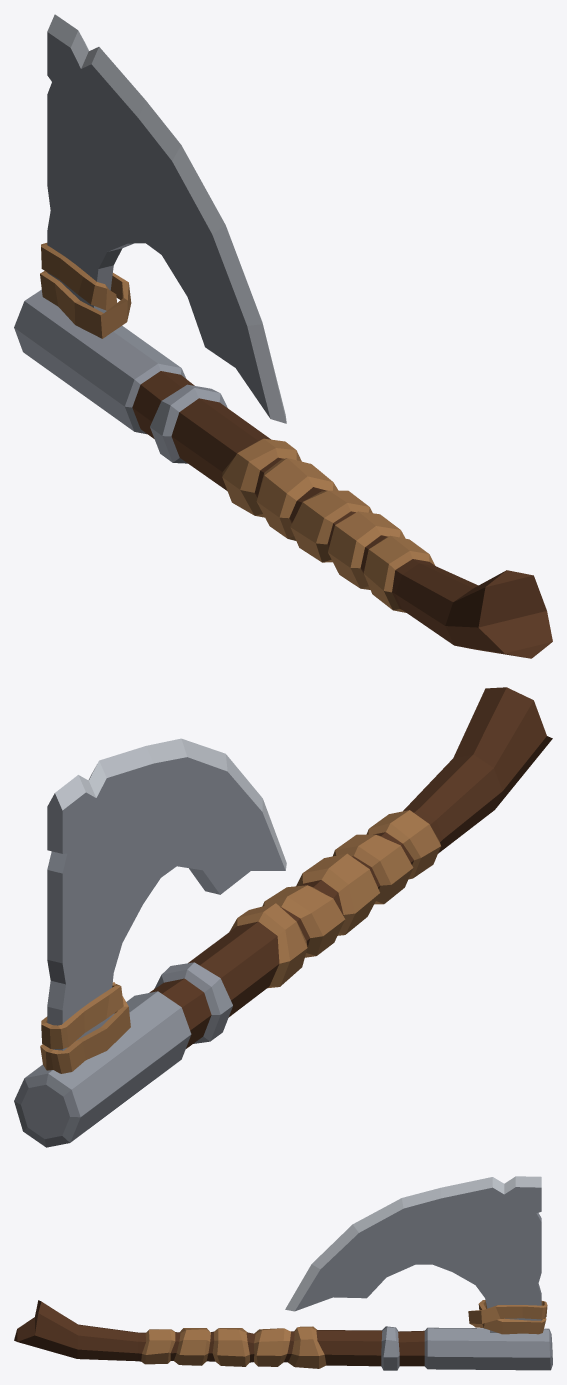
File: melee.axe.glb
3 views of the same model, one above another, from view 1: azimuth 30°, elevation 25°; view 2: azimuth 150°, elevation 25°; view 3: azimuth 270°, elevation 25° (orthographic). The views are drawn at different scales.
Visible parts, largest first — view 1: melee.axe; view 2: melee.axe; view 3: melee.axe.
Part boxes in pixels (x1,y1,x2,y2): melee.axe: (14,14,552,658); melee.axe: (14,687,552,1147); melee.axe: (14,1176,552,1370).
Bounding box in the file's own units: 0.0521 × 0.2455 × 0.62.
